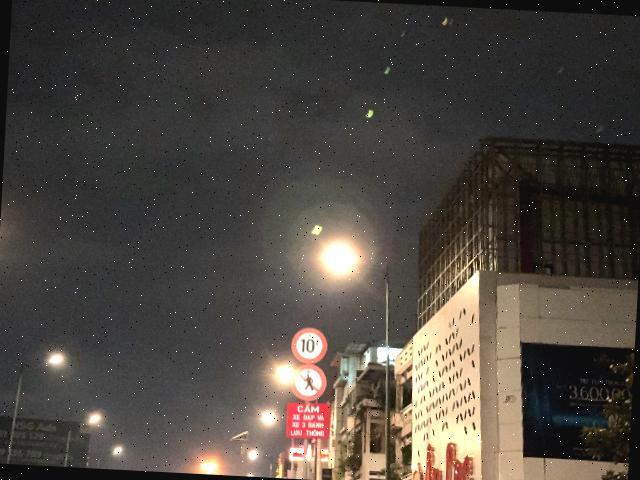cam-nguoi-di-bo: (288, 364, 328, 402)
han-che-trong-luong-xe: (290, 326, 329, 366)
